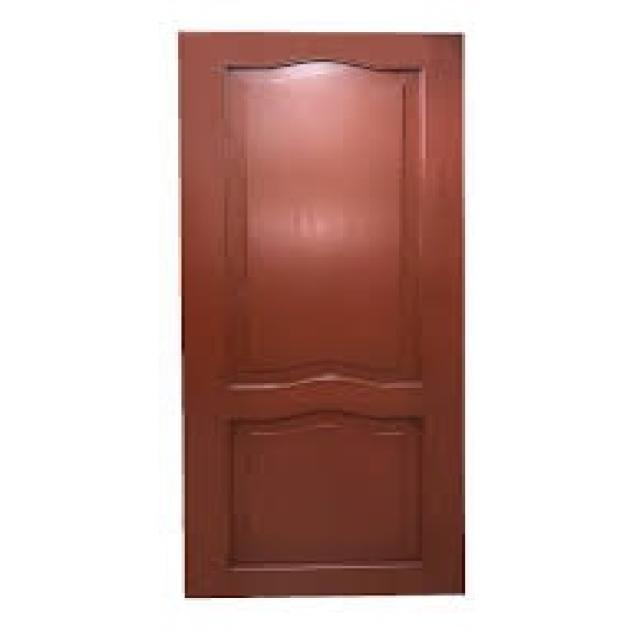door: (178, 32, 469, 598)
